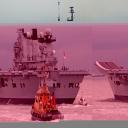Portanaves: (2, 5, 128, 105)
